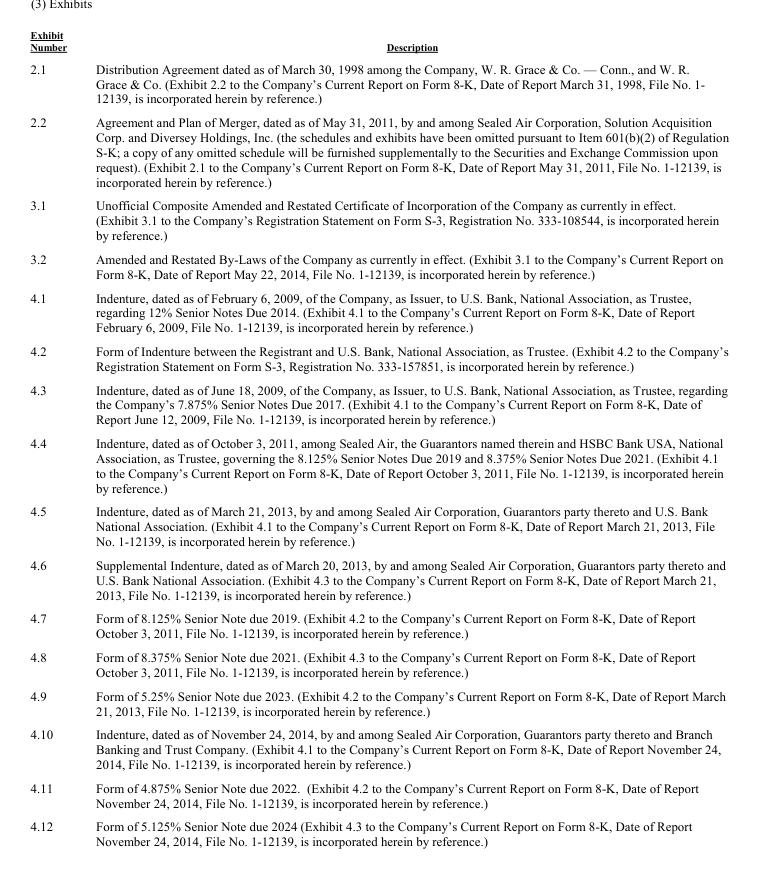table: (29, 28, 728, 848)
table column: (80, 28, 728, 848), (29, 28, 80, 848)
table column header: (29, 28, 728, 56)
table row: (29, 109, 728, 193), (29, 430, 728, 499), (29, 552, 728, 606), (29, 56, 728, 109), (29, 193, 728, 246), (29, 285, 728, 338), (29, 377, 728, 430), (29, 499, 728, 552), (29, 722, 728, 775), (29, 246, 728, 285), (29, 338, 728, 377), (29, 644, 728, 683), (29, 683, 728, 722), (29, 775, 728, 814), (29, 606, 728, 644), (29, 814, 728, 848), (29, 28, 728, 56)
